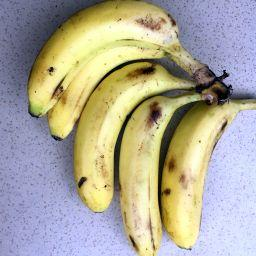Banana Ripe: (23, 1, 252, 254), (30, 0, 206, 132), (69, 57, 186, 223), (167, 95, 248, 243), (119, 91, 182, 256)
